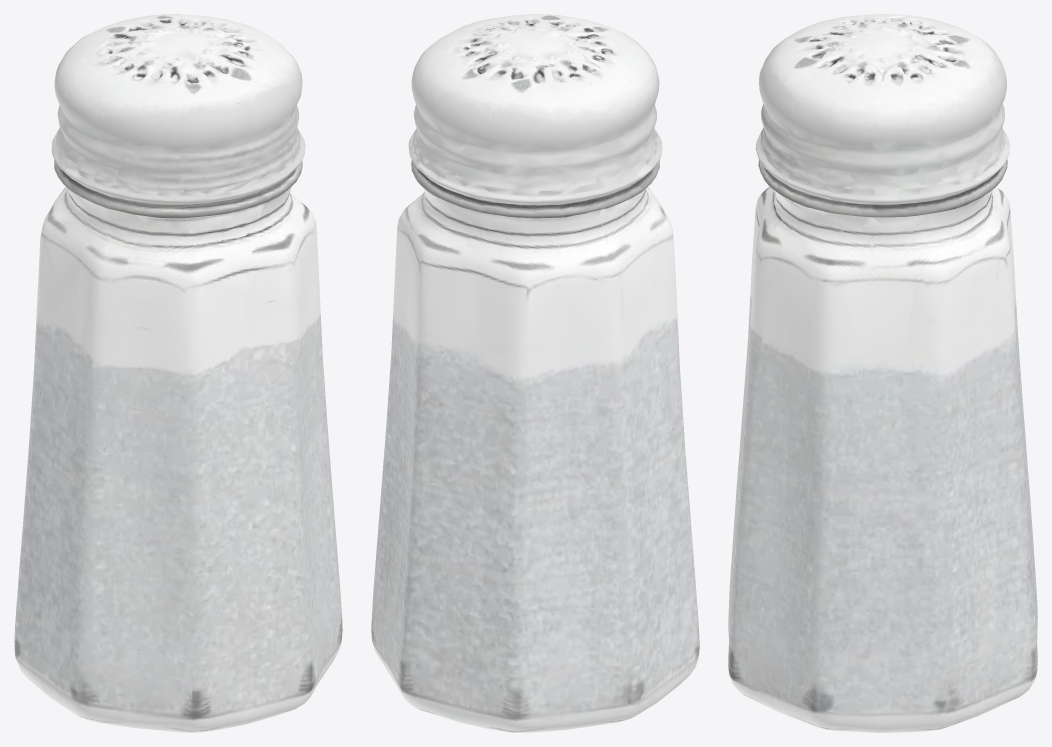
File: salt.glb
3 renders of one model, left to right at view 1: azimuth 30°, elevation 25°; view 2: azimuth 150°, elevation 25°; view 3: azimuth 270°, elevation 25°, orthographic.
Size of the model in its own units: 0.8374 by 1.9 by 0.8374.
1 material, 1 textured.
